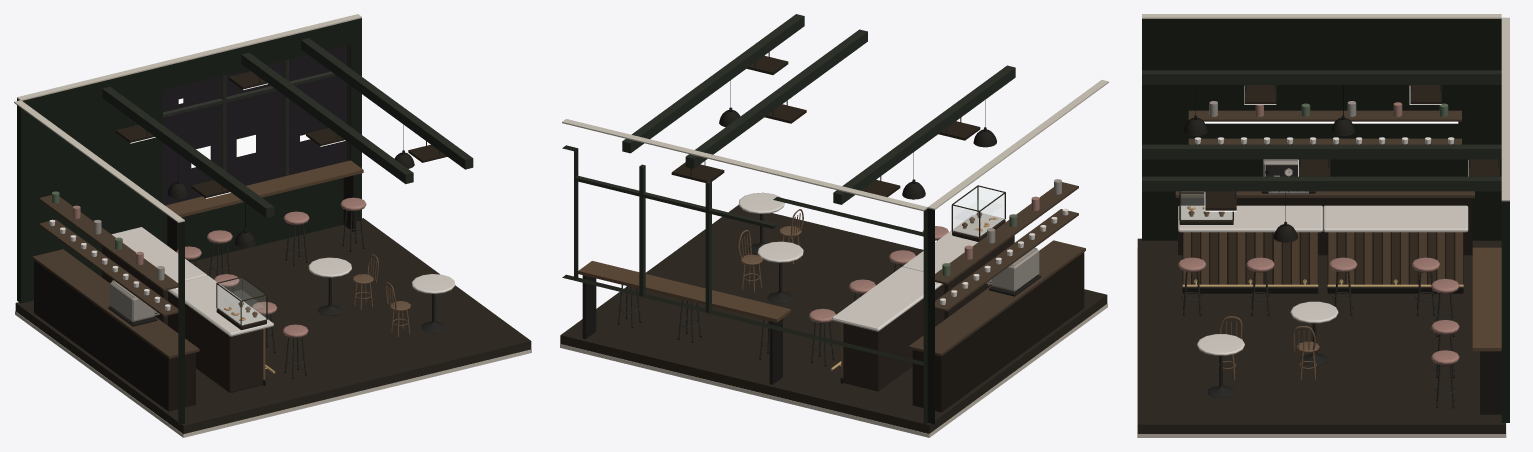
File: room.glb
3 views of the same model, side by side, from view 1: azimuth 30°, elevation 25°; view 2: azimuth 150°, elevation 25°; view 3: azimuth 270°, elevation 25° (orthographic). The views are drawn at different scales.
Parts seen in each view (by area): view 1: cafe_static, street_backdrop, beam_1, beam_2, beam_3, cut_floor, cut_wall_window, cut_wall_bar; view 2: cafe_static, beam_1, beam_3, beam_2, cut_floor, cut_wall_window, cut_wall_bar; view 3: cafe_static, beam_2, beam_3, beam_1, cut_wall_bar, cut_floor, cut_wall_window.
Part boxes in pixels (x1,y1,x2,y2): cafe_static: (15, 18, 531, 434); street_backdrop: (163, 45, 346, 205); beam_1: (102, 86, 274, 217); beam_2: (241, 52, 413, 184); beam_3: (301, 38, 473, 169); cut_floor: (15, 311, 531, 437); cut_wall_window: (17, 14, 361, 100); cut_wall_bar: (14, 100, 184, 222); cafe_static: (560, 52, 1107, 433); beam_1: (833, 65, 1015, 204); beam_3: (622, 14, 804, 153); beam_2: (685, 29, 867, 168); cut_floor: (560, 303, 1107, 437); cut_wall_window: (562, 119, 927, 211); cut_wall_bar: (927, 80, 1108, 209); cafe_static: (1137, 19, 1509, 433); beam_2: (1142, 144, 1501, 159); beam_3: (1142, 176, 1501, 191); beam_1: (1142, 70, 1501, 84); cut_wall_bar: (1142, 14, 1501, 18); cut_floor: (1137, 248, 1506, 437); cut_wall_window: (1501, 17, 1509, 201).
Size of the model in its own units: 6.19 by 3.62 by 5.31.
